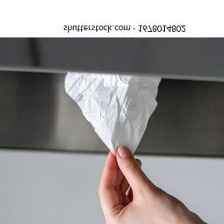tissue: (59, 66, 166, 162)
